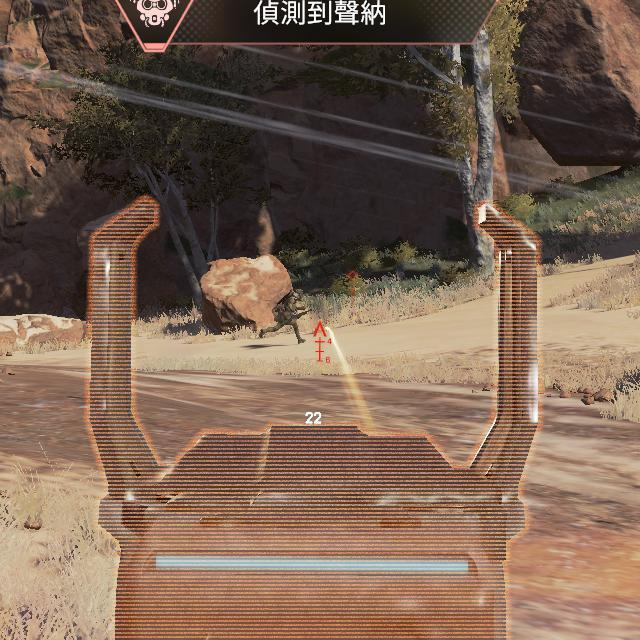avatar: (272, 285, 308, 345)
